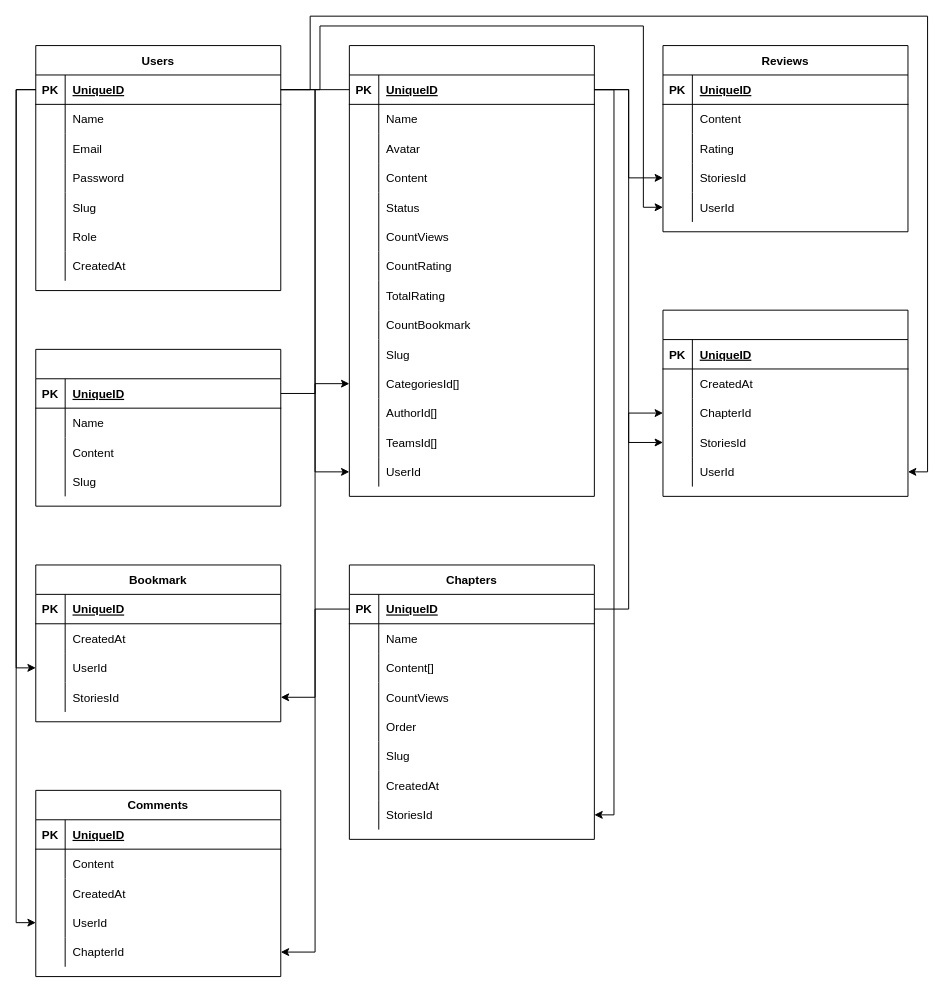
Image size: 944x993. Some labels were removed from this diagram. The box of each missing label's shape, as (x1, y1, x2, y2) in pixels:
Categories: (35, 348, 281, 506)
Histories: (662, 309, 908, 496)
Stories: (348, 45, 594, 496)
